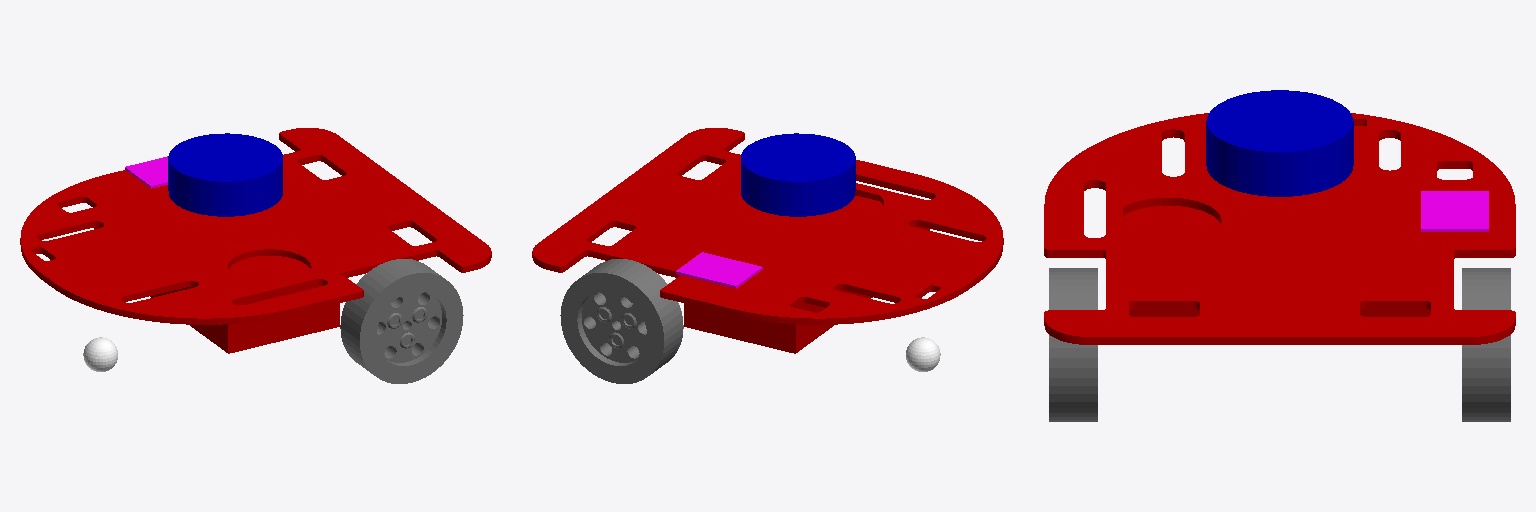
URDF robot description (caretta):
<?xml version="1.0" ?>
<robot name="caretta" xmlns:xacro="http://ros.org/wiki/xacro">

  <material name="blue">
    <color rgba="0.0 0.0 0.8 1.0"/>
  </material>
  <material name="grey">
    <color rgba="0.5 0.5 0.5 1.0"/>
  </material>
  <material name="red">
    <color rgba="0.8 0.0 0.0 1.0"/>
  </material>
  <material name="purple">
    <color rgba="1.0 0.02 1.0 1.0"/>
  </material>
  <material name="white">
    <color rgba="1.0 1.0 1.0 1.0"/>
  </material>

  <link name="base_footprint"/>

  <joint name="base_joint" type="fixed">
    <parent link="base_footprint"/>
    <child link="base_link"/>
    <origin xyz="0.0 0.0 0.03425" rpy="0 0 0"/>
  </joint>
  <link name="base_link">
    <visual>
      <origin xyz="0 0 0.028" rpy="0 0 0"/>
      <geometry>
        <mesh filename="package://rosrider_description/meshes/caretta.stl" scale="0.001 0.001 0.001"/>
      </geometry>
      <material name="red"/>
    </visual>
  </link>
  <joint name="wheel_left_joint" type="continuous">
    <parent link="base_link"/>
    <child link="wheel_left_link"/>
    <origin xyz="0.0 0.092 0.0" rpy="-1.57 0 0"/>
    <axis xyz="0 0 1"/>
  </joint>
  <link name="wheel_left_link">
    <visual>
      <origin xyz="0 0 0" rpy="1.57 0 0"/>
      <geometry>
        <mesh filename="package://rosrider_description/meshes/wheel_left.stl" scale="0.001 0.001 0.001"/>
      </geometry>
      <material name="grey"/>
    </visual>
  </link>

  <joint name="wheel_right_joint" type="continuous">
    <parent link="base_link"/>
    <child link="wheel_right_link"/>
    <origin xyz="0.0 -0.092 0.0" rpy="-1.57 0 0"/>
    <axis xyz="0 0 1"/>
  </joint>
  <link name="wheel_right_link">
    <visual>
      <origin xyz="0 0 0" rpy="1.57 0 0"/>
      <geometry>
        <mesh filename="package://rosrider_description/meshes/wheel_right.stl" scale="0.001 0.001 0.001"/>
      </geometry>
      <material name="grey"/>
    </visual>
  </link>

  <joint name="caster_back_joint" type="fixed">
    <parent link="base_link"/>
    <child link="caster_back_link"/>
    <origin xyz="-0.1454 0 -0.02425" rpy="0 0 0"/>
  </joint>
  <link name="caster_back_link">
    <visual>
      <geometry>
        <sphere radius="0.01"/>
      </geometry>
      <material name="white"/>
    </visual>
  </link>

  <joint name="imu_joint" type="fixed">
    <parent link="base_link"/>
    <child link="imu_link"/>
    <origin xyz="-0.056 0.078 0.0396" rpy="0 0 0"/>
  </joint>
  <link name="imu_link">
    <visual>
      <origin xyz="0 0 0" rpy="0 0 0"/>
      <geometry>
        <box size="0.04 0.03 0.0016"/>
      </geometry>
      <material name="purple"/>
    </visual>
  </link>

  <joint name="scan_joint" type="fixed">
    <parent link="base_link"/>
    <child link="base_scan"/>
    <origin xyz="-0.063 0 0.06975" rpy="0 0 0"/>
  </joint>
  <link name="base_scan">
    <visual>
      <origin xyz="0 0 0.0" rpy="0 0 0"/>
      <geometry>
        <cylinder length="0.022" radius="0.0328"/>
      </geometry>
      <material name="blue"/>
    </visual>
  </link>

</robot>

--- What the picture shows (computed from the rendered views, not written in the file) ---
Views: 3 orthographic renders of the robot side by side, from view 1: azimuth 30°, elevation 25°; view 2: azimuth 150°, elevation 25°; view 3: azimuth 270°, elevation 25°.
Model caretta with 7 links and 6 joints (2 continuous, 4 fixed), rooted at base_footprint, posed all joints at 0.
Visible links, largest first — view 1: base_link, wheel_right_link, base_scan, caster_back_link, imu_link; view 2: base_link, wheel_left_link, base_scan, imu_link, caster_back_link; view 3: base_link, base_scan, wheel_left_link, wheel_right_link, imu_link.
Boxes of the visible links, <box> form: base_link: <box>20,128,491,353</box>; wheel_right_link: <box>340,259,463,383</box>; base_scan: <box>168,133,282,216</box>; caster_back_link: <box>83,337,117,371</box>; imu_link: <box>125,156,167,188</box>; base_link: <box>532,128,1003,353</box>; wheel_left_link: <box>560,259,683,383</box>; base_scan: <box>741,133,855,216</box>; imu_link: <box>676,252,762,288</box>; caster_back_link: <box>906,337,940,371</box>; base_link: <box>1044,113,1515,344</box>; base_scan: <box>1206,90,1353,196</box>; wheel_left_link: <box>1462,268,1510,421</box>; wheel_right_link: <box>1049,268,1097,421</box>; imu_link: <box>1421,191,1488,231</box>.
Bounding box of the posed robot: 0.24 × 0.21 × 0.115 m (x, y, z).
3 mesh visuals loaded from 3 distinct referenced files (3 binary STL).